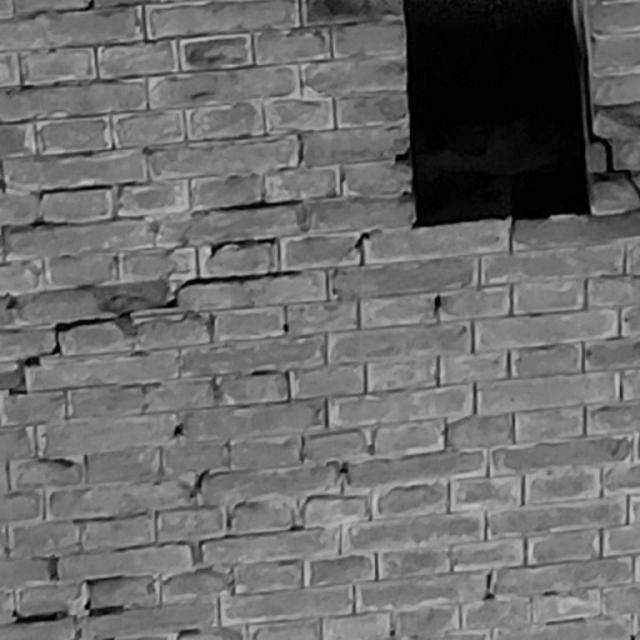crack: (9, 269, 302, 394), (579, 17, 640, 195)
